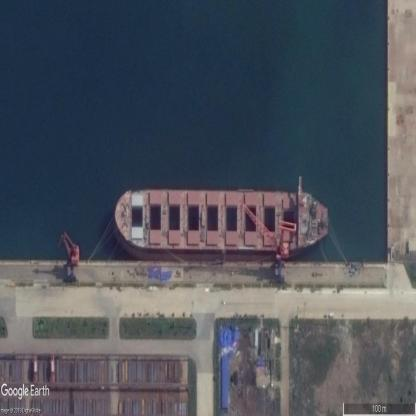ship: (110, 188, 329, 252)
